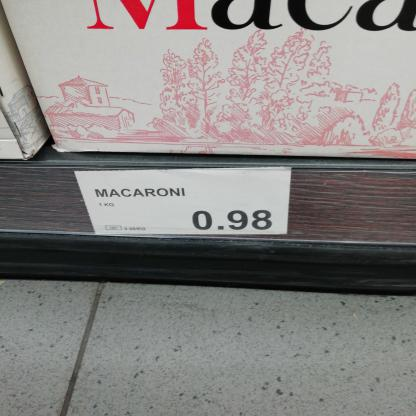prtg: (76, 169, 292, 235)
